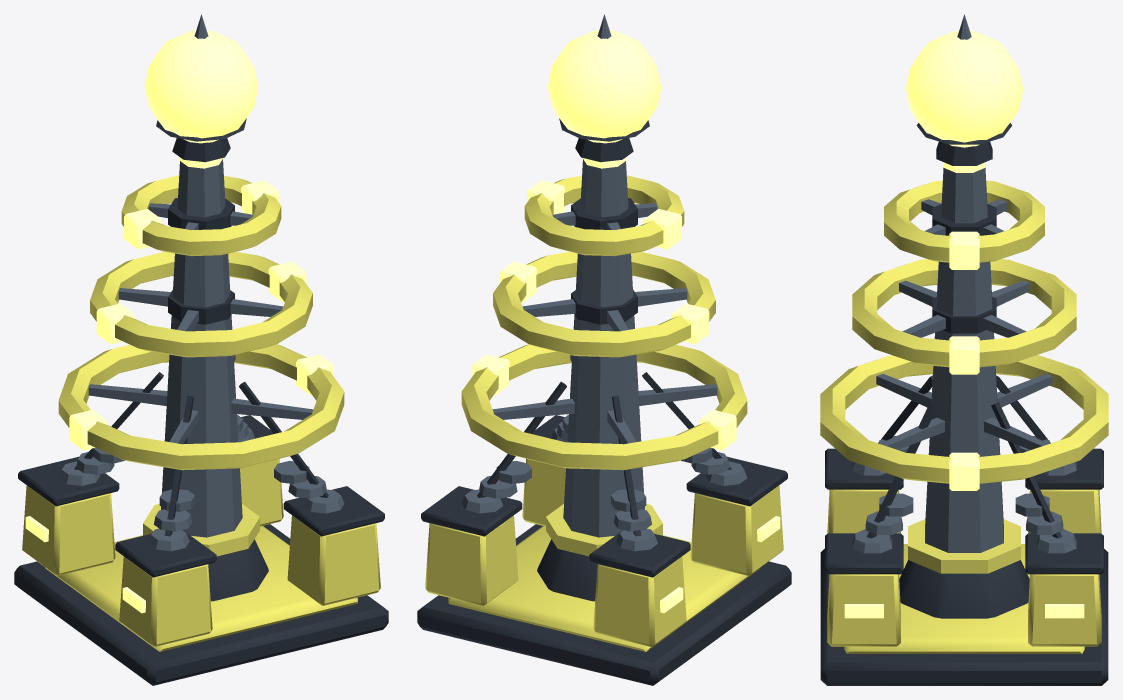
File: tesla.glb
3 views of the same model, side by side, from view 1: azimuth 30°, elevation 25°; view 2: azimuth 150°, elevation 25°; view 3: azimuth 270°, elevation 25° (orthographic). The views are drawn at different scales.
Parts seen in each view (by area): view 1: base, spin_ring_1, spin_ring_2, electrode, spin_ring_3; view 2: base, spin_ring_1, spin_ring_2, electrode, spin_ring_3; view 3: base, spin_ring_1, spin_ring_2, electrode, spin_ring_3.
Part boxes in pixels (box(x1,y1,x2,y2)): base: box(14, 118, 388, 685); spin_ring_1: box(58, 344, 344, 470); spin_ring_2: box(90, 251, 312, 357); electrode: box(144, 14, 258, 143); spin_ring_3: box(121, 175, 281, 256); base: box(417, 118, 791, 685); spin_ring_1: box(461, 344, 747, 470); spin_ring_2: box(493, 251, 715, 357); electrode: box(547, 14, 661, 143); spin_ring_3: box(524, 175, 684, 256); base: box(820, 123, 1108, 685); spin_ring_1: box(820, 355, 1108, 490); spin_ring_2: box(852, 259, 1076, 374); electrode: box(905, 14, 1023, 147); spin_ring_3: box(884, 180, 1044, 269).
Size of the model in its own units: 6.9 by 15.55 by 6.62.
